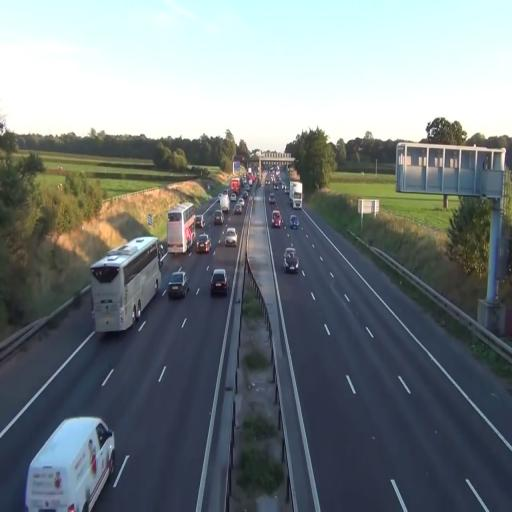vehicle: (24, 415, 116, 511), (90, 235, 164, 334), (167, 205, 199, 255), (167, 269, 188, 301), (210, 268, 229, 297), (283, 245, 300, 272), (196, 233, 212, 255), (224, 227, 238, 246), (290, 214, 300, 230)
